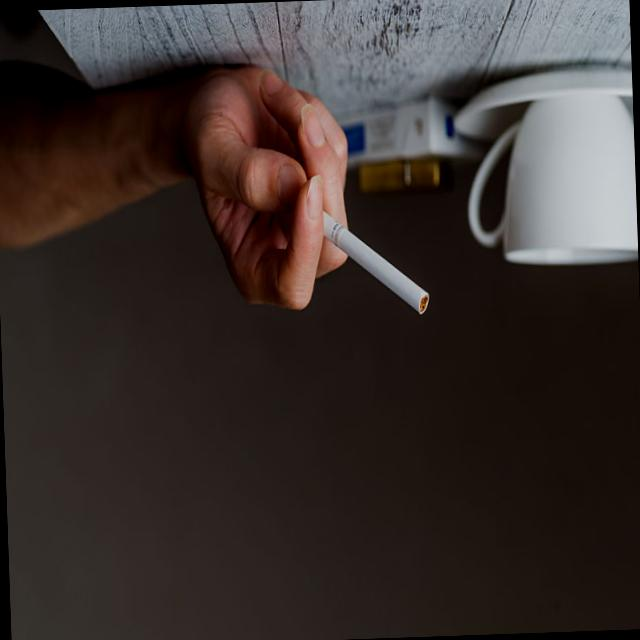smoke: (321, 210, 432, 318)
